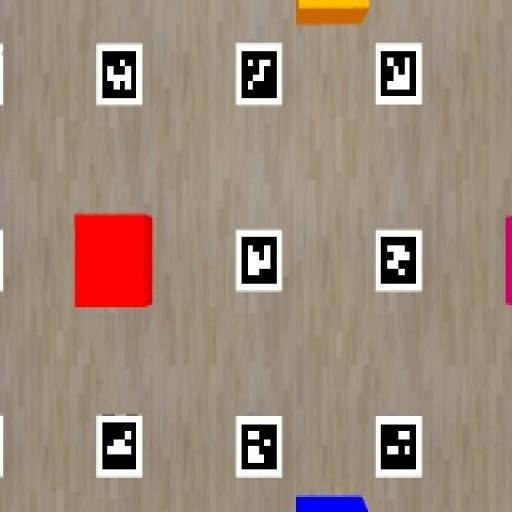car: (295, 495, 367, 511), (504, 216, 511, 305)
fire: (74, 214, 153, 307), (296, 0, 371, 25)
